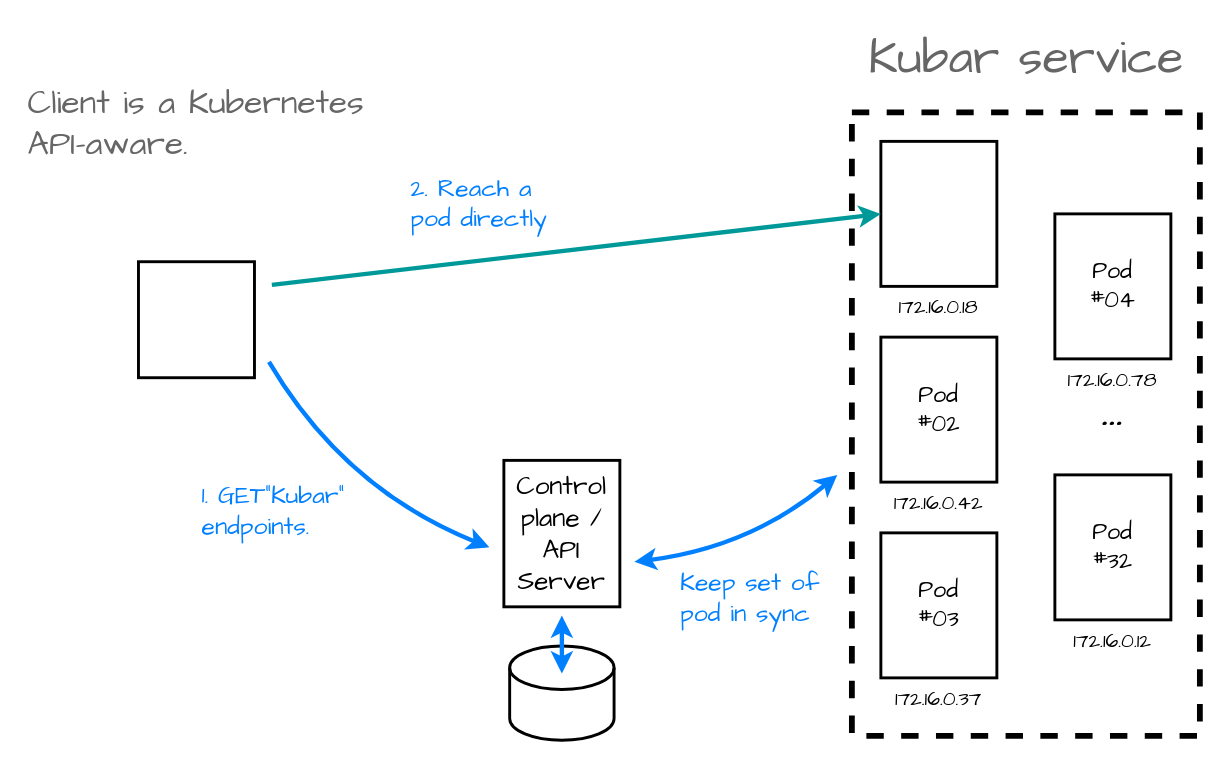
Some shapes in this 1227 by 766 pixel diagram are drawn without their labels. Each missing label, with the centre of its shape:
Client: point (195, 319)
ETCD: point (561, 692)
Pod #01: point (938, 213)
